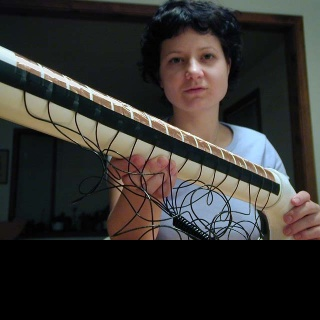without_mask: (159, 26, 228, 112)
